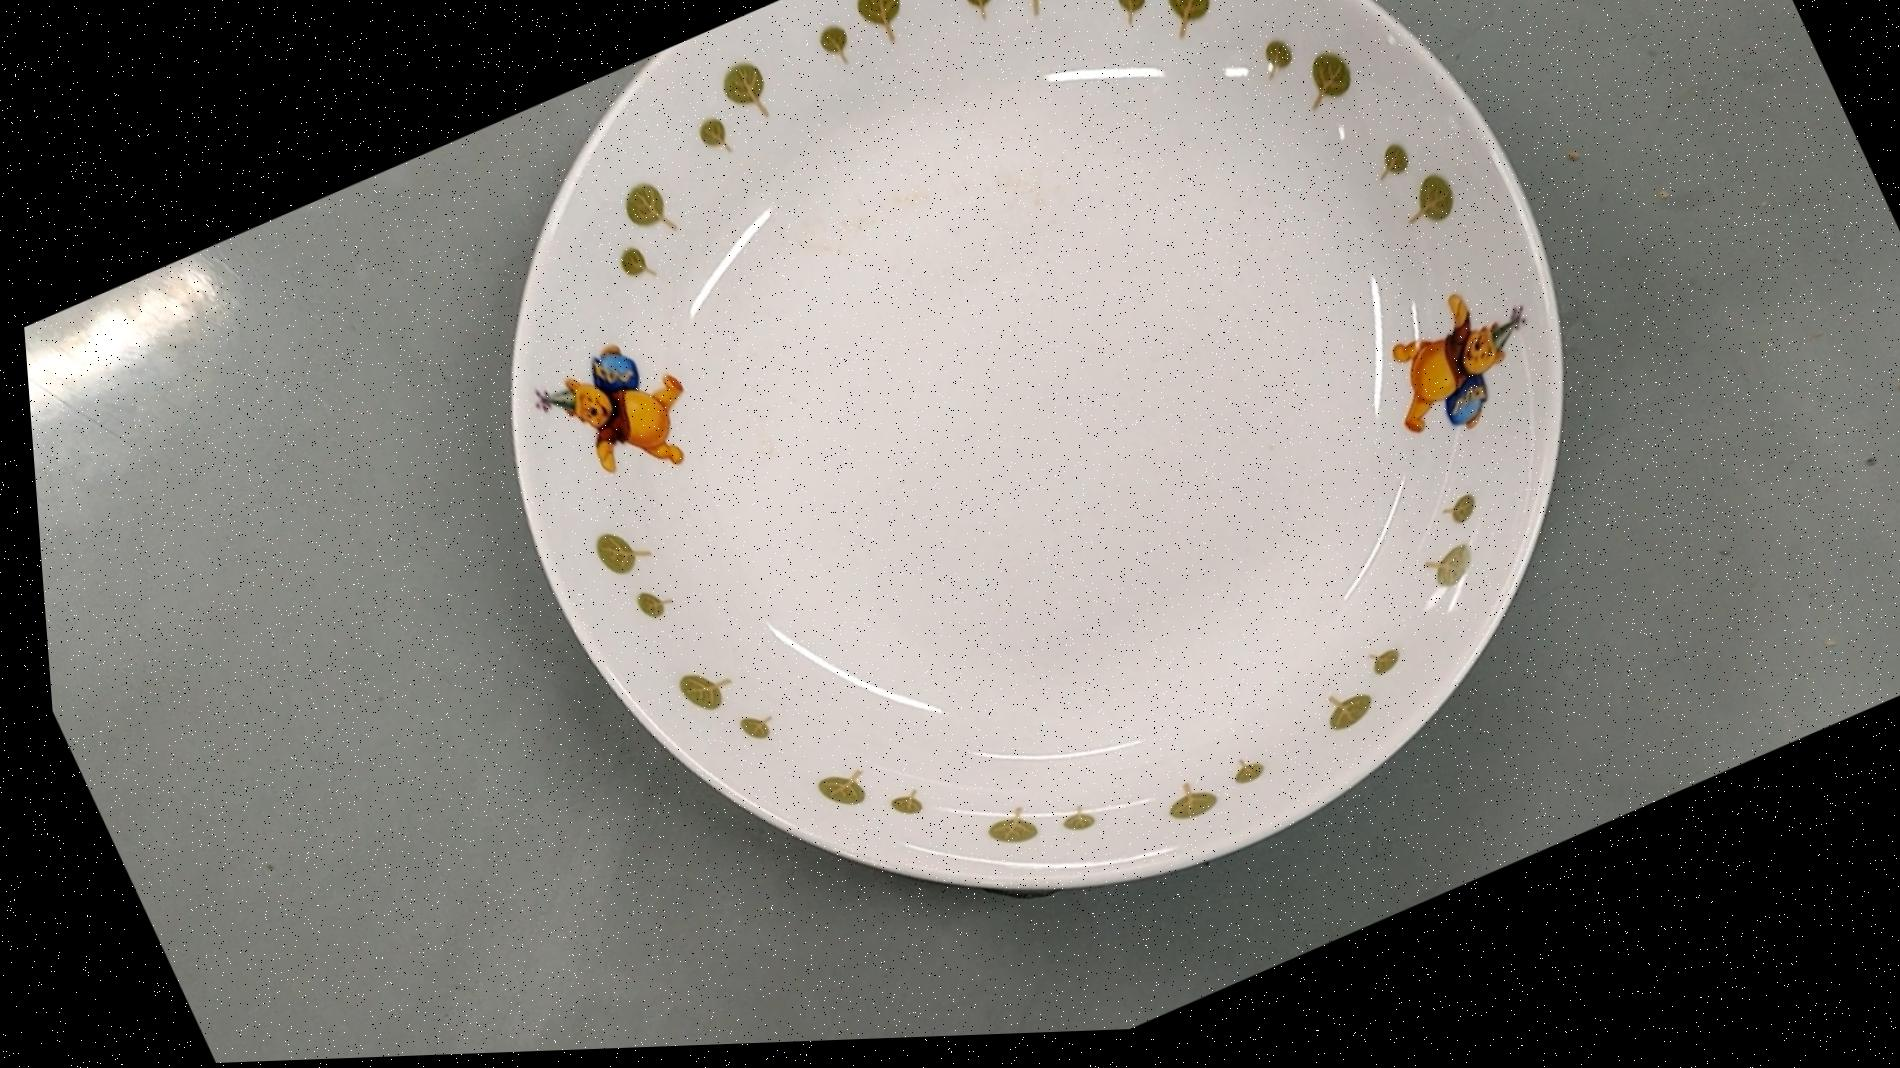plate: (347, 0, 1736, 1058)
